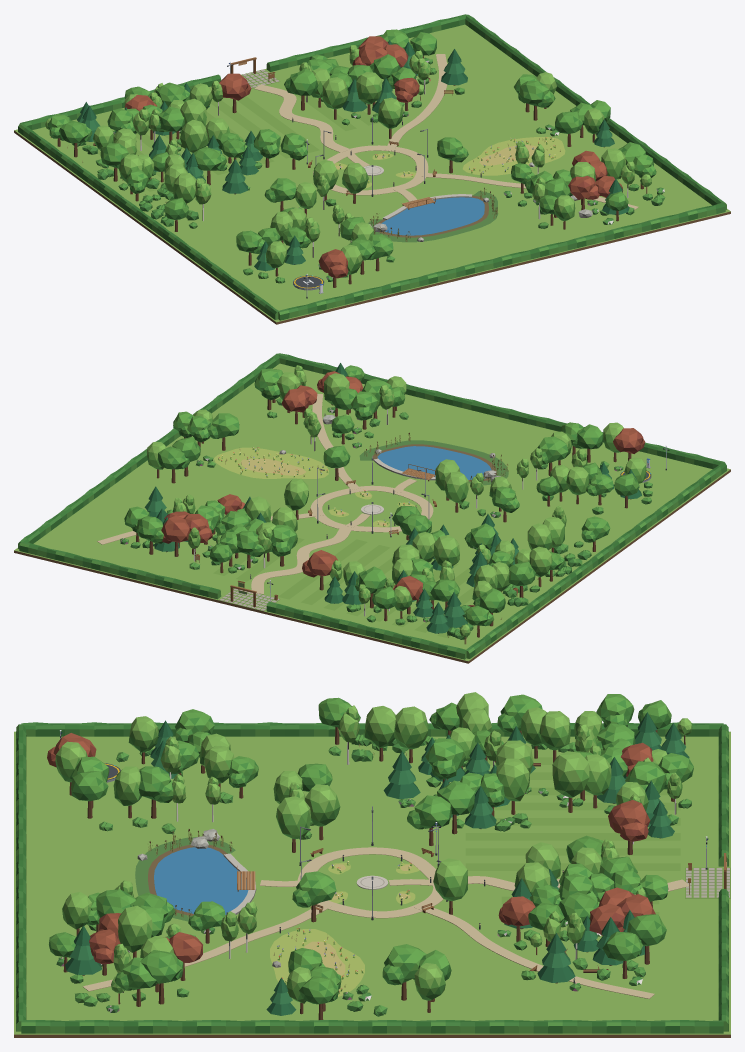
Rendered from Park_Level1_NatureSkewed.fbx.
3 views of the same model, one above another, from view 1: azimuth 30°, elevation 25°; view 2: azimuth 150°, elevation 25°; view 3: azimuth 270°, elevation 25° (orthographic). The views are drawn at different scales.
Parts seen in each view (by area): view 1: Park_LV_Ground_01, Park_LV_Pond_Water_Natural, Park_LV_Meadow_West, Park_LV_Pond_Edge_North, Park_LV_Lawn_SouthEast_01, Park_LV_Tree_Oak_45, Park_LV_Tree_Oak_10, Park_LV_Tree_Linden_04, Park_LV_Tree_Linden_03, Park_LV_Tree_Linden_15, Park_LV_Tree_CopperBeech_07, Park_LV_Tree_CopperBeech_09 (+23 smaller); view 2: Park_LV_Ground_01, Park_LV_Meadow_West, Park_LV_Pond_Water_Natural, Park_LV_Pond_Edge_North, Park_LV_Lawn_SouthEast_01, Park_LV_Tree_CopperBeech_07, Park_LV_Lawn_SouthEast_02, Park_LV_Tree_Oak_10, Park_LV_Tree_CopperBeech_04, Park_LV_Tree_Oak_49, Park_LV_Tree_Oak_41, Park_LV_Tree_Linden_29 (+26 smaller); view 3: Park_LV_Ground_01, Park_LV_Pond_Water_Natural, Park_LV_Meadow_West, Park_LV_Lawn_SouthEast_02, Park_LV_Pond_Edge_North, Park_LV_Tree_Linden_11, Park_LV_Tree_CopperBeech_07, Park_LV_Lawn_SouthEast_01, Park_LV_Tree_Oak_45, Park_LV_EntrancePlaza_01, Park_LV_Tree_Linden_25, Park_LV_Tree_Oak_01 (+73 smaller).
Part boxes in pixels (x1,y1,x2,y2): Park_LV_Ground_01: [14, 24, 730, 324]; Park_LV_Pond_Water_Natural: [381, 197, 484, 235]; Park_LV_Meadow_West: [462, 137, 565, 175]; Park_LV_Pond_Edge_North: [368, 191, 498, 242]; Park_LV_Lawn_SouthEast_01: [206, 96, 280, 132]; Park_LV_Tree_Oak_45: [520, 80, 555, 120]; Park_LV_Tree_Oak_10: [284, 68, 318, 110]; Park_LV_Tree_Linden_04: [322, 77, 348, 119]; Park_LV_Tree_Linden_03: [356, 72, 382, 114]; Park_LV_Tree_Linden_15: [180, 119, 207, 152]; Park_LV_Tree_CopperBeech_07: [219, 73, 251, 113]; Park_LV_Tree_CopperBeech_09: [318, 249, 348, 287]; Park_LV_Ground_01: [14, 363, 730, 663]; Park_LV_Meadow_West: [214, 447, 328, 478]; Park_LV_Pond_Water_Natural: [377, 446, 491, 479]; Park_LV_Pond_Edge_North: [359, 440, 508, 485]; Park_LV_Lawn_SouthEast_01: [278, 574, 346, 610]; Park_LV_Tree_CopperBeech_07: [302, 550, 337, 590]; Park_LV_Lawn_SouthEast_02: [334, 539, 392, 574]; Park_LV_Tree_Oak_10: [271, 524, 297, 566]; Park_LV_Tree_CopperBeech_04: [161, 515, 190, 556]; Park_LV_Tree_Oak_49: [207, 413, 239, 450]; Park_LV_Tree_Oak_41: [254, 368, 281, 410]; Park_LV_Tree_Linden_29: [444, 471, 468, 512]; Park_LV_Ground_01: [14, 731, 730, 1037]; Park_LV_Pond_Water_Natural: [154, 847, 248, 914]; Park_LV_Meadow_West: [270, 929, 364, 996]; Park_LV_Lawn_SouthEast_02: [465, 833, 573, 870]; Park_LV_Pond_Edge_North: [135, 837, 238, 926]; Park_LV_Tree_Linden_11: [552, 751, 589, 812]; Park_LV_Tree_CopperBeech_07: [608, 800, 650, 854]; Park_LV_Lawn_SouthEast_01: [573, 833, 680, 870]; Park_LV_Tree_Oak_45: [382, 944, 426, 1000]; Park_LV_EntrancePlaza_01: [685, 867, 730, 898]; Park_LV_Tree_Linden_25: [118, 905, 152, 957]; Park_LV_Tree_Oak_01: [292, 871, 336, 922].
Bounding box in the file's own units: 100 × 9.34 × 100.
